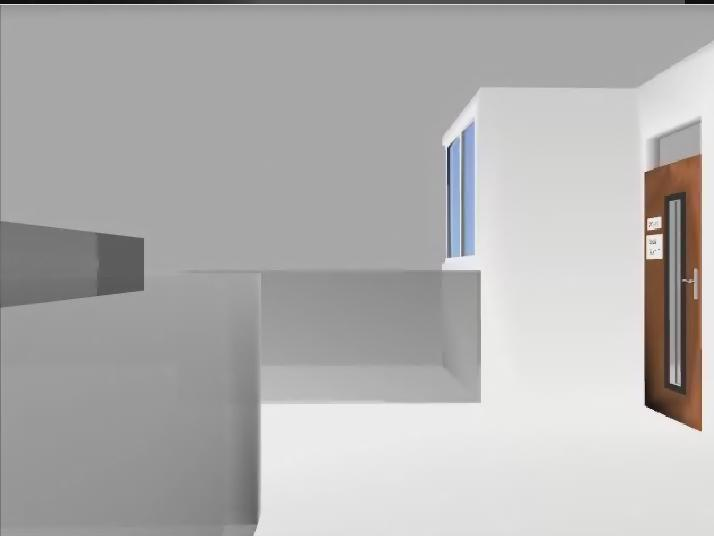door: (645, 155, 702, 431)
